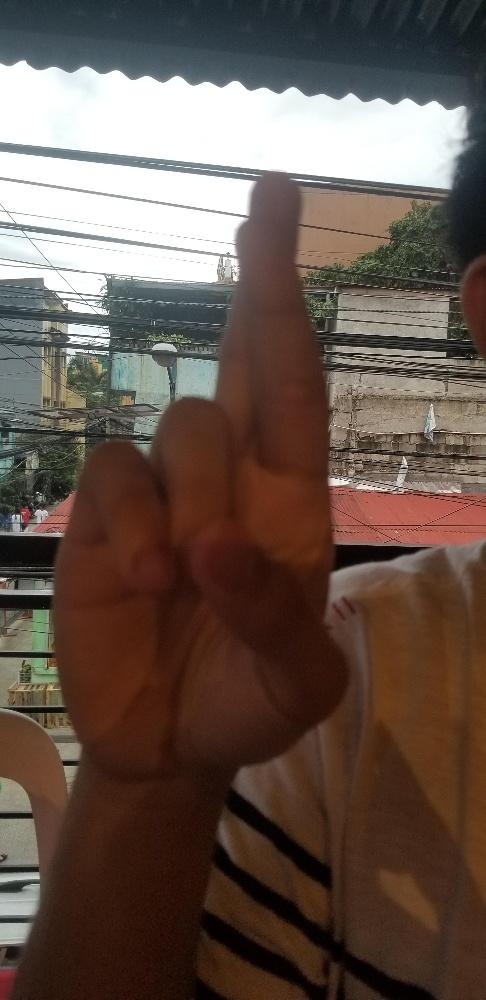r: (50, 168, 350, 778)
